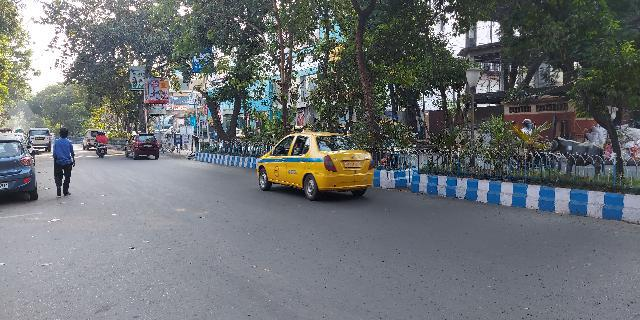Car: (251, 127, 376, 203), (1, 131, 43, 203), (122, 130, 162, 161), (26, 123, 55, 155)
Motorbike: (89, 128, 111, 161)
